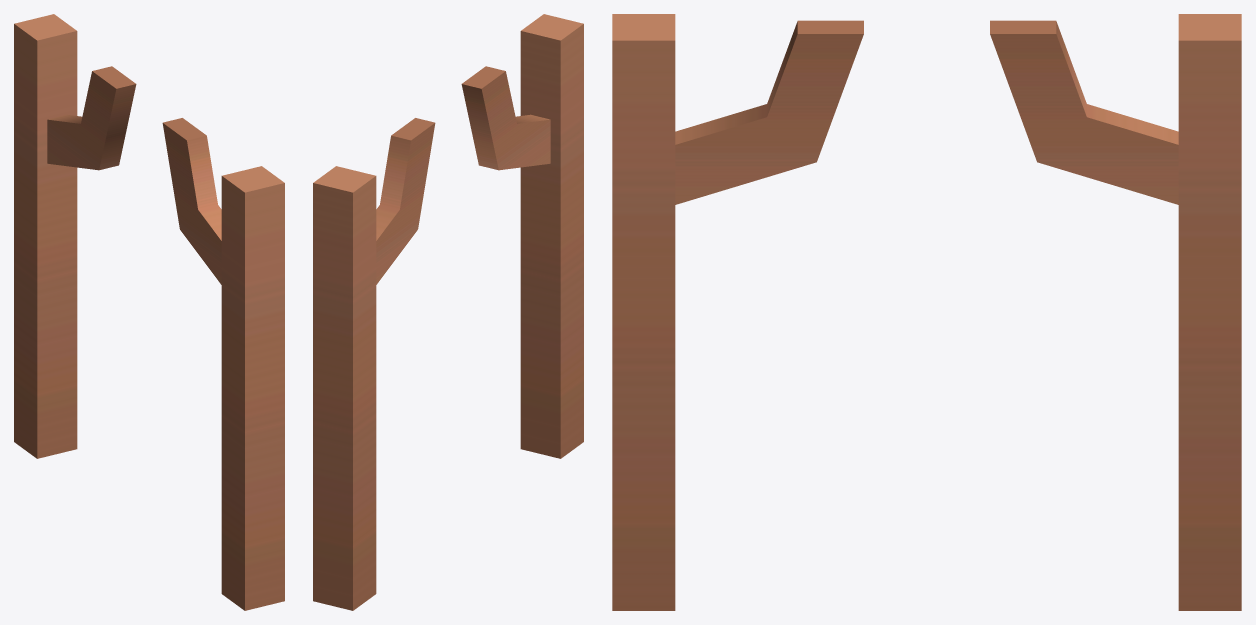
The model's file is balcony-wall.glb.
3 renders of one model, left to right at view 1: azimuth 30°, elevation 25°; view 2: azimuth 150°, elevation 25°; view 3: azimuth 270°, elevation 25°, orthographic. The views are drawn at different scales.
Parts seen in each view (by area): view 1: balcony-wall; view 2: balcony-wall; view 3: balcony-wall.
Part boxes in pixels (box(x1,y1,x2,y2)): balcony-wall: box(14, 14, 284, 610); balcony-wall: box(313, 14, 583, 610); balcony-wall: box(612, 14, 1241, 610).
Bounding box in the file's own units: 0.1 × 1 × 1.
Materials: 1 (1 with a texture image).
